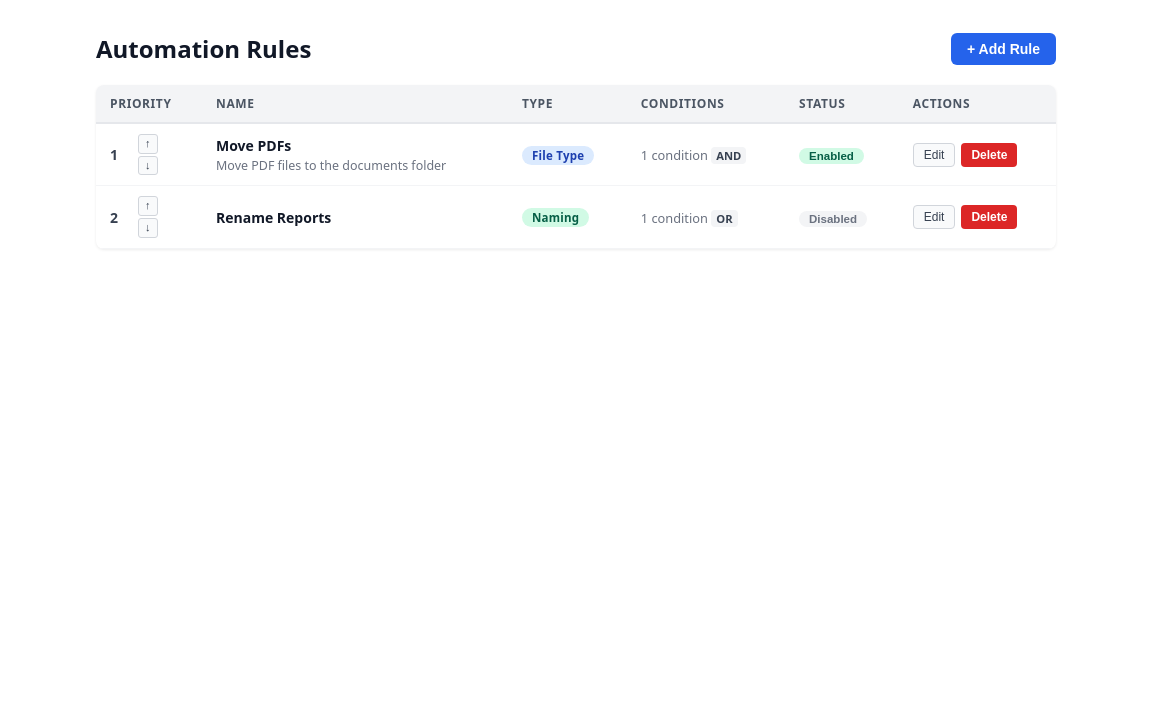
AutomationRulesManager › editing rules › saves edits and closes the form
Step 1. Click the button with test id "edit-rule-rule-1" → point(934, 155), box [913,143,956,167]
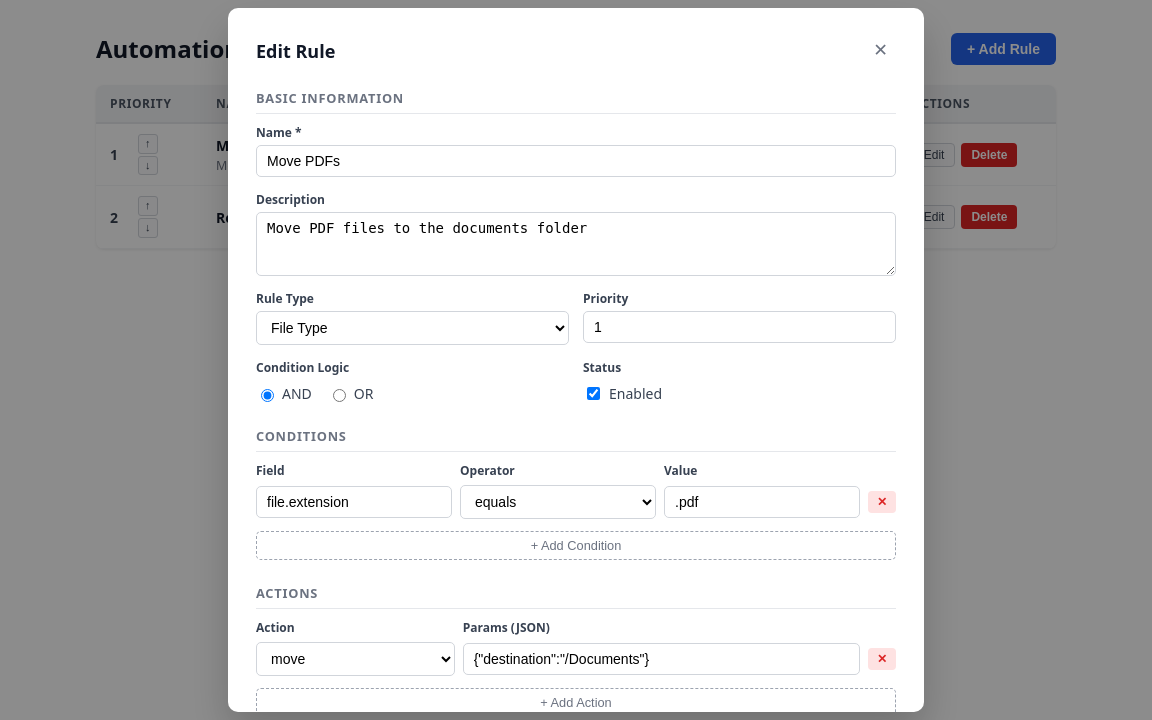
Step 2. Replace the text in the field labelled "Name *" with "Move PDFs - Updated" → point(576, 161), box [256,145,896,177]
(page scrolled)
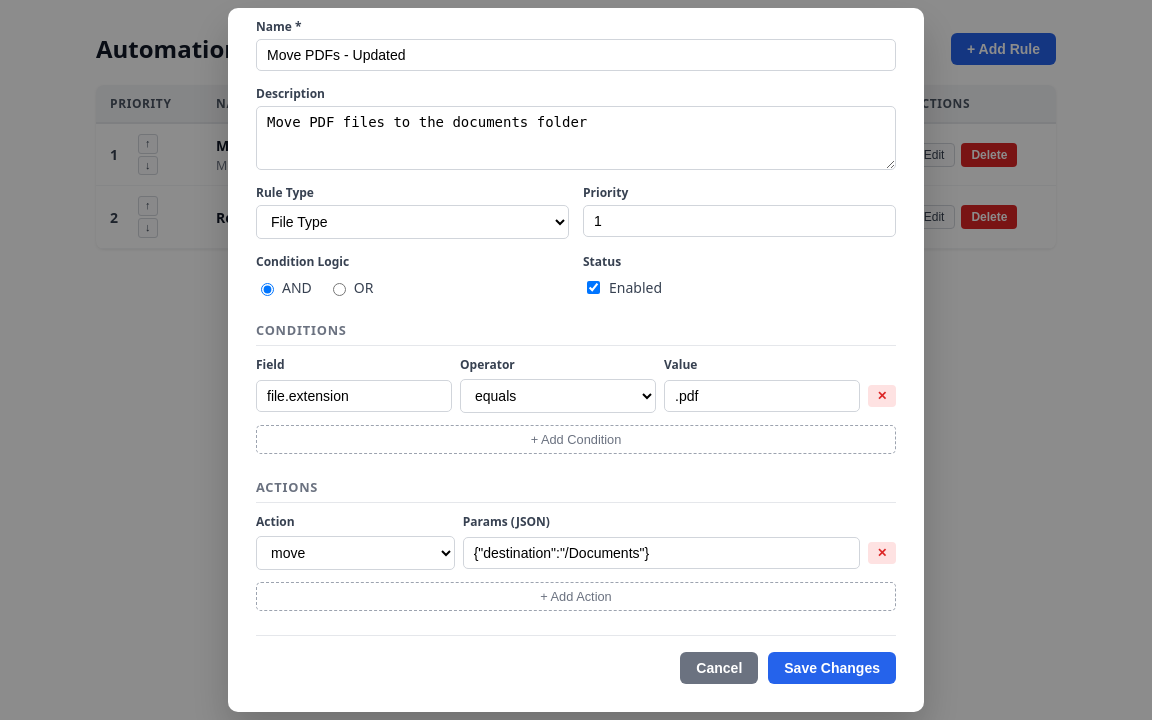
Step 3. Click the button with test id "submit-rule-form" → point(832, 668), box [768,652,896,684]
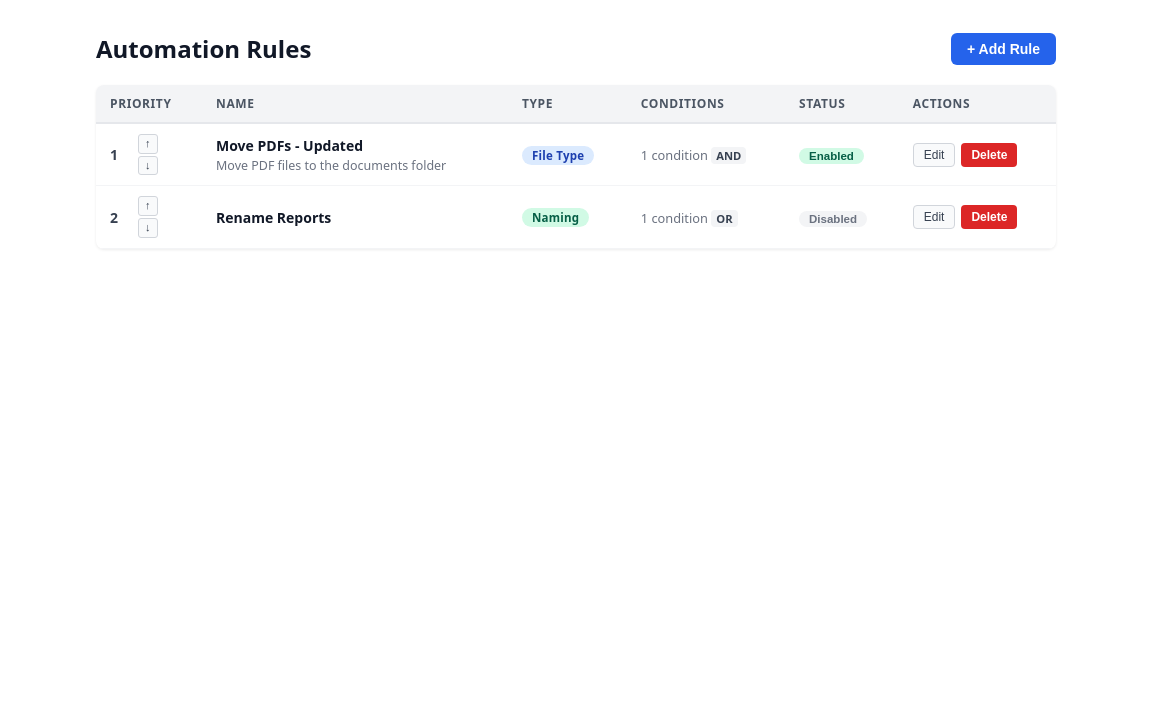
expect the element with test id "rule-form-overlay" is gone: met
expect the text "Move PDFs - Updated" is shown: met, box [216,136,363,155]
